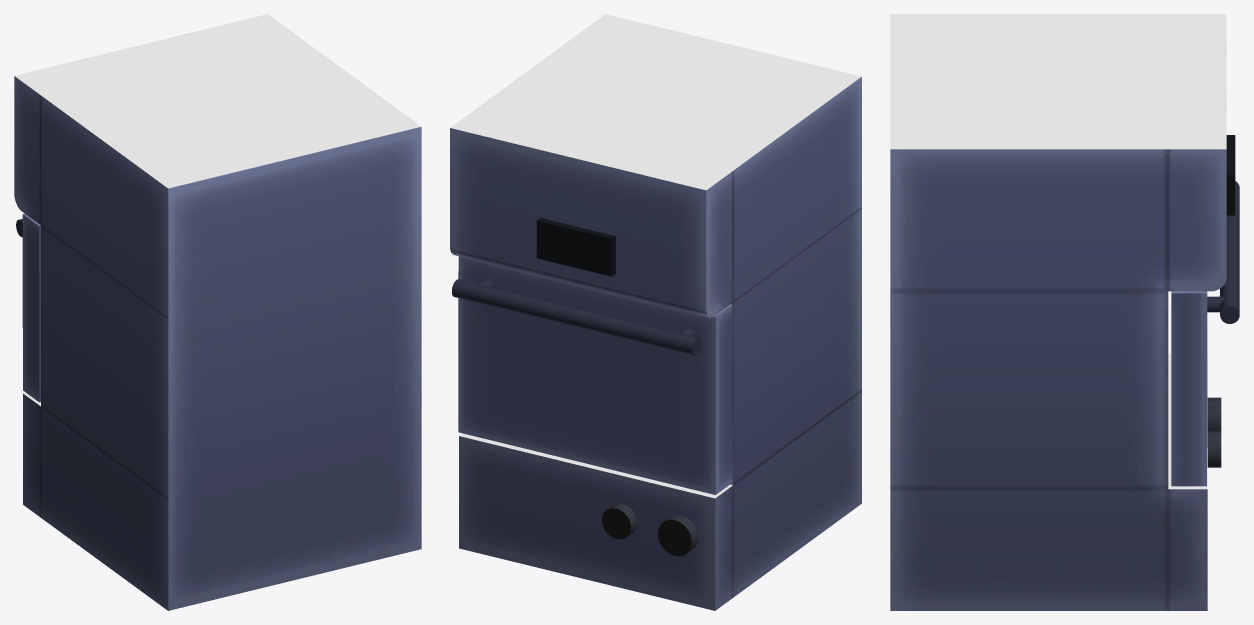
Rendered from Oven.fbx.
3 views of the same model, side by side, from view 1: azimuth 30°, elevation 25°; view 2: azimuth 150°, elevation 25°; view 3: azimuth 270°, elevation 25° (orthographic). The views are drawn at different scales.
Parts seen in each view (by area): view 1: Oven, Oven_Door; view 2: Oven, Oven_Door; view 3: Oven, Oven_Door.
Part boxes in pixels (box(x1,y1,x2,y2)): Oven: box(14, 14, 421, 610); Oven_Door: box(16, 213, 40, 402); Oven: box(450, 14, 861, 610); Oven_Door: box(452, 256, 732, 494); Oven: box(890, 14, 1235, 610); Oven_Door: box(1171, 181, 1239, 486).
Bounding box in the file's own units: 1.2 × 1.9 × 1.3.
